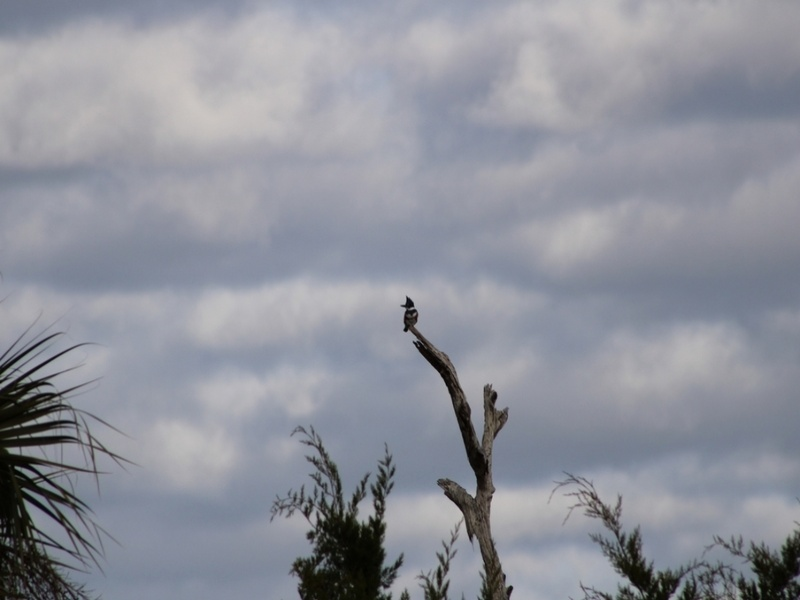kingfisher: (400, 294, 419, 334)
